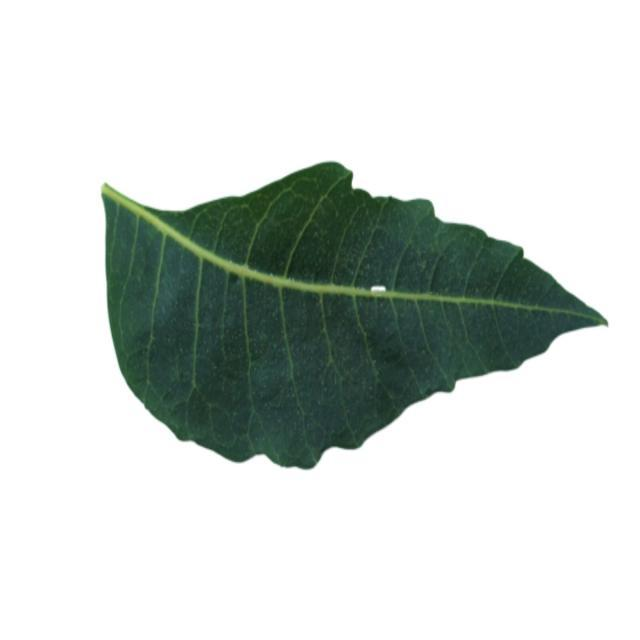Wet: (100, 162, 610, 473)
